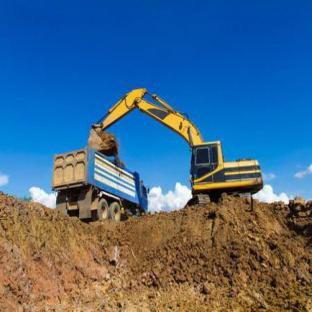ExcavationMachinery: (74, 89, 281, 200)
Vehicle: (46, 141, 158, 218)
